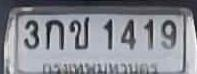1: (103, 18, 112, 49), (143, 18, 152, 49)
3: (23, 19, 39, 48)
4: (120, 18, 135, 49)
9: (160, 19, 176, 48)
A01: (45, 19, 63, 49)
A10: (68, 16, 88, 49)
BKK: (40, 59, 160, 74)
